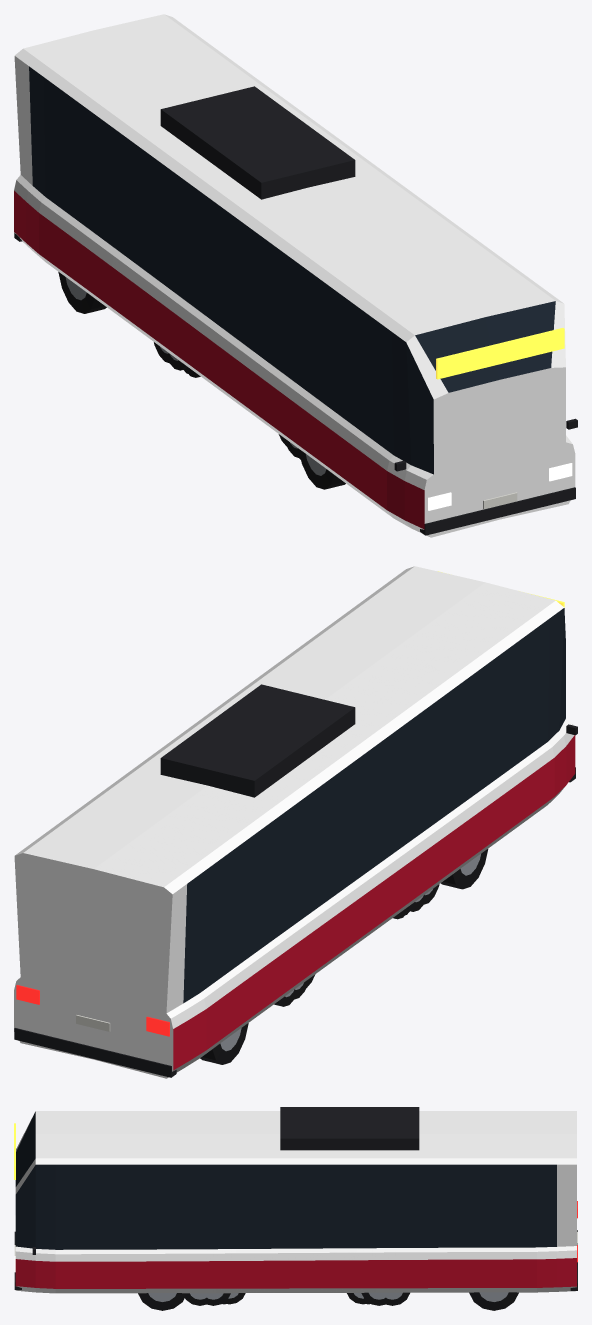
File: traffic.glb
3 views of the same model, one above another, from view 1: azimuth 30°, elevation 25°; view 2: azimuth 150°, elevation 25°; view 3: azimuth 270°, elevation 25° (orthographic). The views are drawn at different scales.
Visible parts, largest first — view 1: bus_mesh; view 2: bus_mesh; view 3: bus_mesh, van_mesh, trotro_mesh, hatch_mesh.
Part boxes in pixels (x1,y1,x2,y2): bus_mesh: (14, 14, 577, 537); bus_mesh: (14, 566, 577, 1078); bus_mesh: (14, 1107, 577, 1310); van_mesh: (203, 1292, 389, 1305); trotro_mesh: (185, 1292, 409, 1305); hatch_mesh: (226, 1293, 365, 1304).
Bounding box in the file's own units: 2.7 × 3.35 × 10.55.
